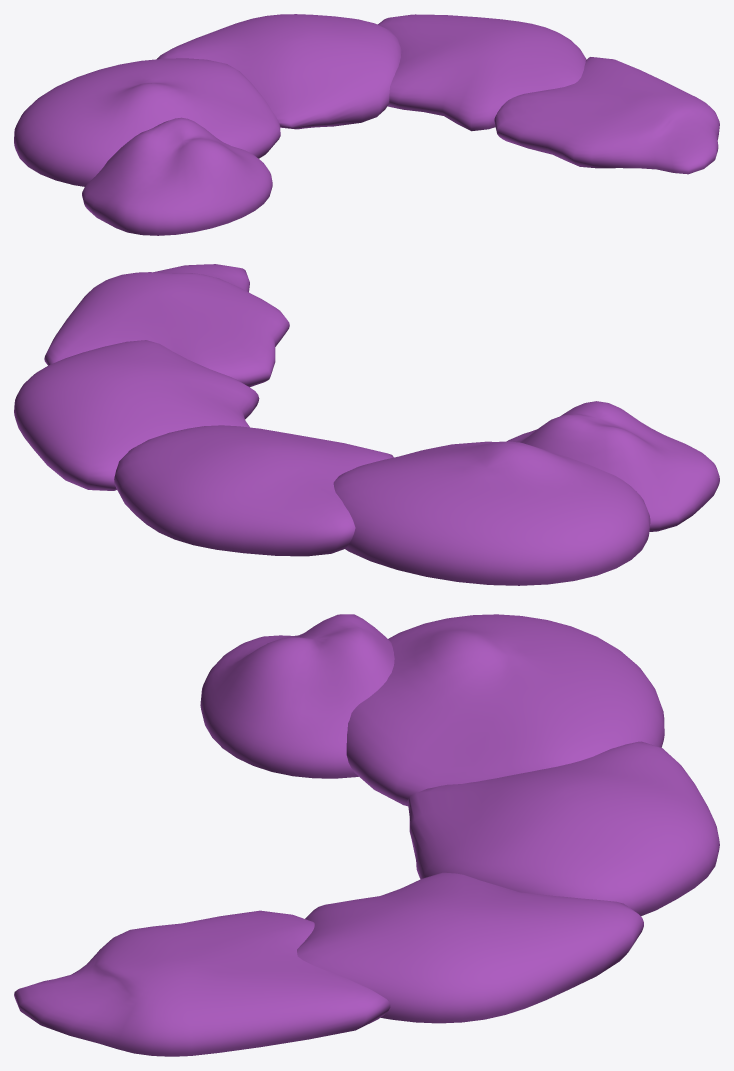
Rendered from paint on pallet texture.fbx.
3 views of the same model, one above another, from view 1: azimuth 30°, elevation 25°; view 2: azimuth 150°, elevation 25°; view 3: azimuth 270°, elevation 25° (orthographic). The views are drawn at different scales.
Visible parts, largest first — view 1: pSphere17; view 2: pSphere17; view 3: pSphere17.
Boxes of the visible parts, bbox=[...] form: pSphere17: bbox=[14, 14, 719, 235]; pSphere17: bbox=[14, 264, 719, 585]; pSphere17: bbox=[14, 614, 719, 1056].
Bounding box in the file's own units: 1.54 × 0.1859 × 1.15.
